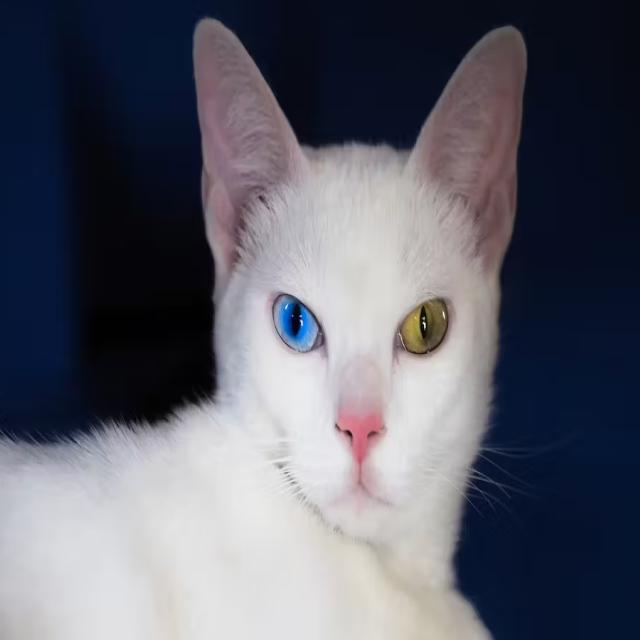Khao Manee: (0, 10, 530, 640)
